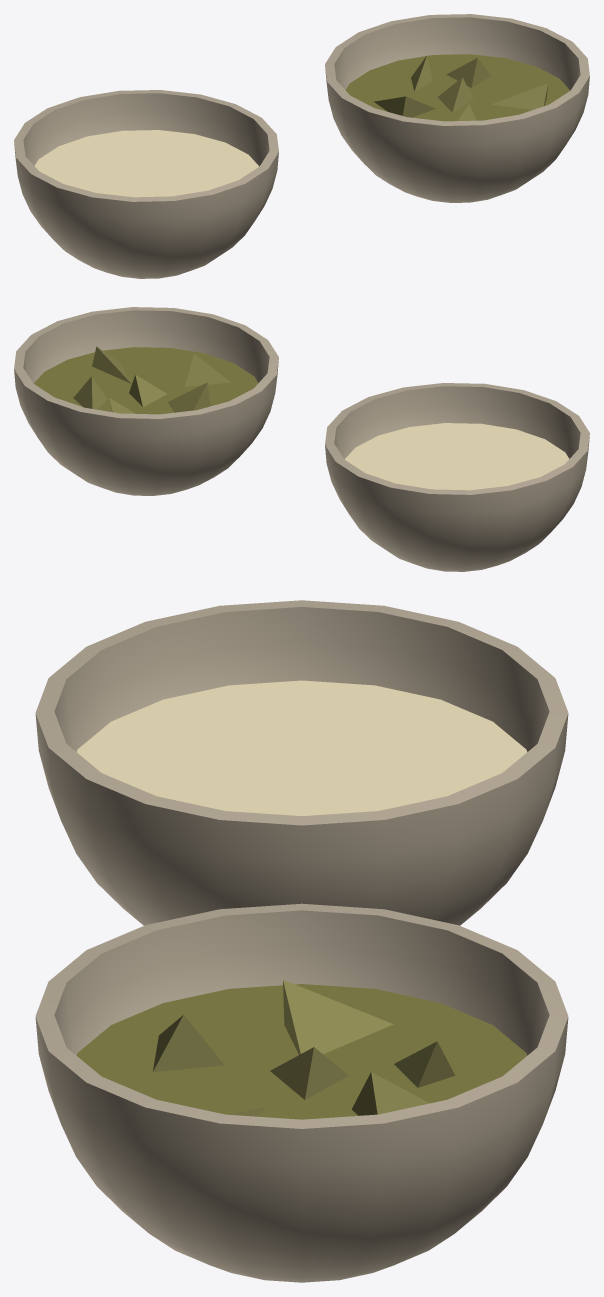
The model's file is choco_2.fbx.
3 renders of one model, top to bottom at view 1: azimuth 30°, elevation 25°; view 2: azimuth 150°, elevation 25°; view 3: azimuth 270°, elevation 25°, orthographic. The views are drawn at different scales.
Parts seen in each view (by area): view 1: pSphere10, pSphere12, pSphere11, pSphere13, pCube555, pCube554, pCube557, pCube553, pCube556; view 2: pSphere10, pSphere12, pSphere11, pSphere13, pCube558, pCube554, pCube557, pCube553, pCube555; view 3: pSphere12, pSphere10, pSphere11, pSphere13, pCube554, pCube558, pCube553, pCube557, pCube556.
Boxes of the visible parts, left/top/right/bottom form: pSphere10: left=14, top=90, right=278, bottom=278; pSphere12: left=325, top=14, right=589, bottom=202; pSphere11: left=35, top=130, right=258, bottom=197; pSphere13: left=345, top=54, right=570, bottom=121; pCube555: left=491, top=83, right=548, bottom=109; pCube554: left=374, top=96, right=435, bottom=117; pCube557: left=446, top=58, right=490, bottom=87; pCube553: left=438, top=77, right=473, bottom=112; pCube556: left=411, top=55, right=432, bottom=91; pSphere10: left=325, top=383, right=589, bottom=571; pSphere12: left=14, top=307, right=278, bottom=495; pSphere11: left=345, top=423, right=568, bottom=490; pSphere13: left=33, top=347, right=258, bottom=414; pCube558: left=184, top=354, right=231, bottom=386; pCube554: left=168, top=382, right=210, bottom=412; pCube557: left=73, top=376, right=107, bottom=409; pCube553: left=129, top=375, right=166, bottom=406; pCube555: left=92, top=346, right=131, bottom=383; pSphere12: left=35, top=903, right=568, bottom=1282; pSphere10: left=35, top=600, right=568, bottom=925; pSphere11: left=77, top=680, right=526, bottom=815; pSphere13: left=76, top=984, right=527, bottom=1119; pCube554: left=283, top=980, right=393, bottom=1054; pCube558: left=153, top=1014, right=224, bottom=1072; pCube553: left=270, top=1047, right=348, bottom=1099; pCube557: left=351, top=1072, right=429, bottom=1115; pCube556: left=394, top=1041, right=455, bottom=1087.
Bounding box in the file's own units: 0.419 × 0.0897 × 0.1785.
